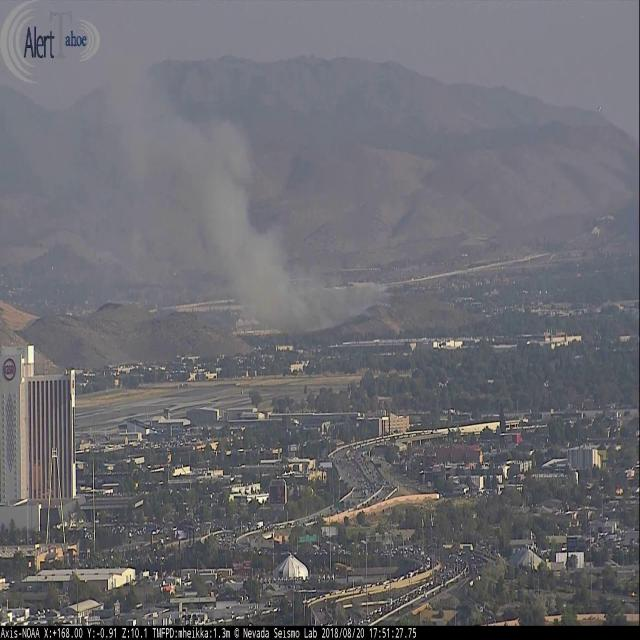smoke: (111, 46, 394, 339)
